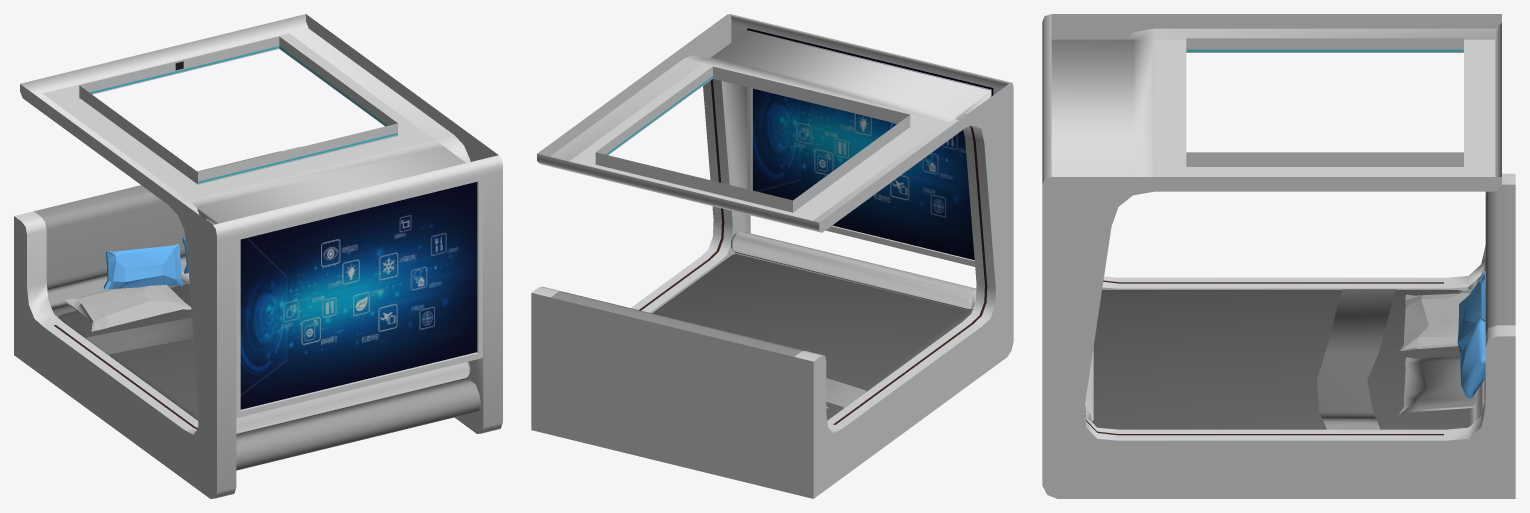
File: M_BRchuangpin02.FBX
3 views of the same model, side by side, from view 1: azimuth 30°, elevation 25°; view 2: azimuth 150°, elevation 25°; view 3: azimuth 270°, elevation 25° (orthographic). The views are drawn at different scales.
Visible parts, largest first — view 1: M_BRchuangpin02_01, M_BRchuangpin02_03, M_BRchuangpin02_02, M_BRchuangpin02_05; view 2: M_BRchuangpin02_01, M_BRchuangpin02_02, M_BRchuangpin02_03, M_BRchuangpin02_05; view 3: M_BRchuangpin02_01, M_BRchuangpin02_02, M_BRchuangpin02_05.
Boxes of the visible parts, x1=… form: M_BRchuangpin02_01: x1=14, y1=14, x2=502, y2=498; M_BRchuangpin02_03: x1=240, y1=182, x2=476, y2=409; M_BRchuangpin02_02: x1=58, y1=236, x2=470, y2=435; M_BRchuangpin02_05: x1=54, y1=46, x2=397, y2=429; M_BRchuangpin02_01: x1=531, y1=14, x2=1013, y2=498; M_BRchuangpin02_02: x1=652, y1=231, x2=976, y2=420; M_BRchuangpin02_03: x1=747, y1=28, x2=993, y2=259; M_BRchuangpin02_05: x1=606, y1=76, x2=987, y2=424; M_BRchuangpin02_01: x1=1042, y1=14, x2=1515, y2=498; M_BRchuangpin02_02: x1=1085, y1=271, x2=1485, y2=429; M_BRchuangpin02_05: x1=1085, y1=49, x2=1463, y2=435.
Size of the model in its own units: 4.11 by 3.79 by 5.04.
